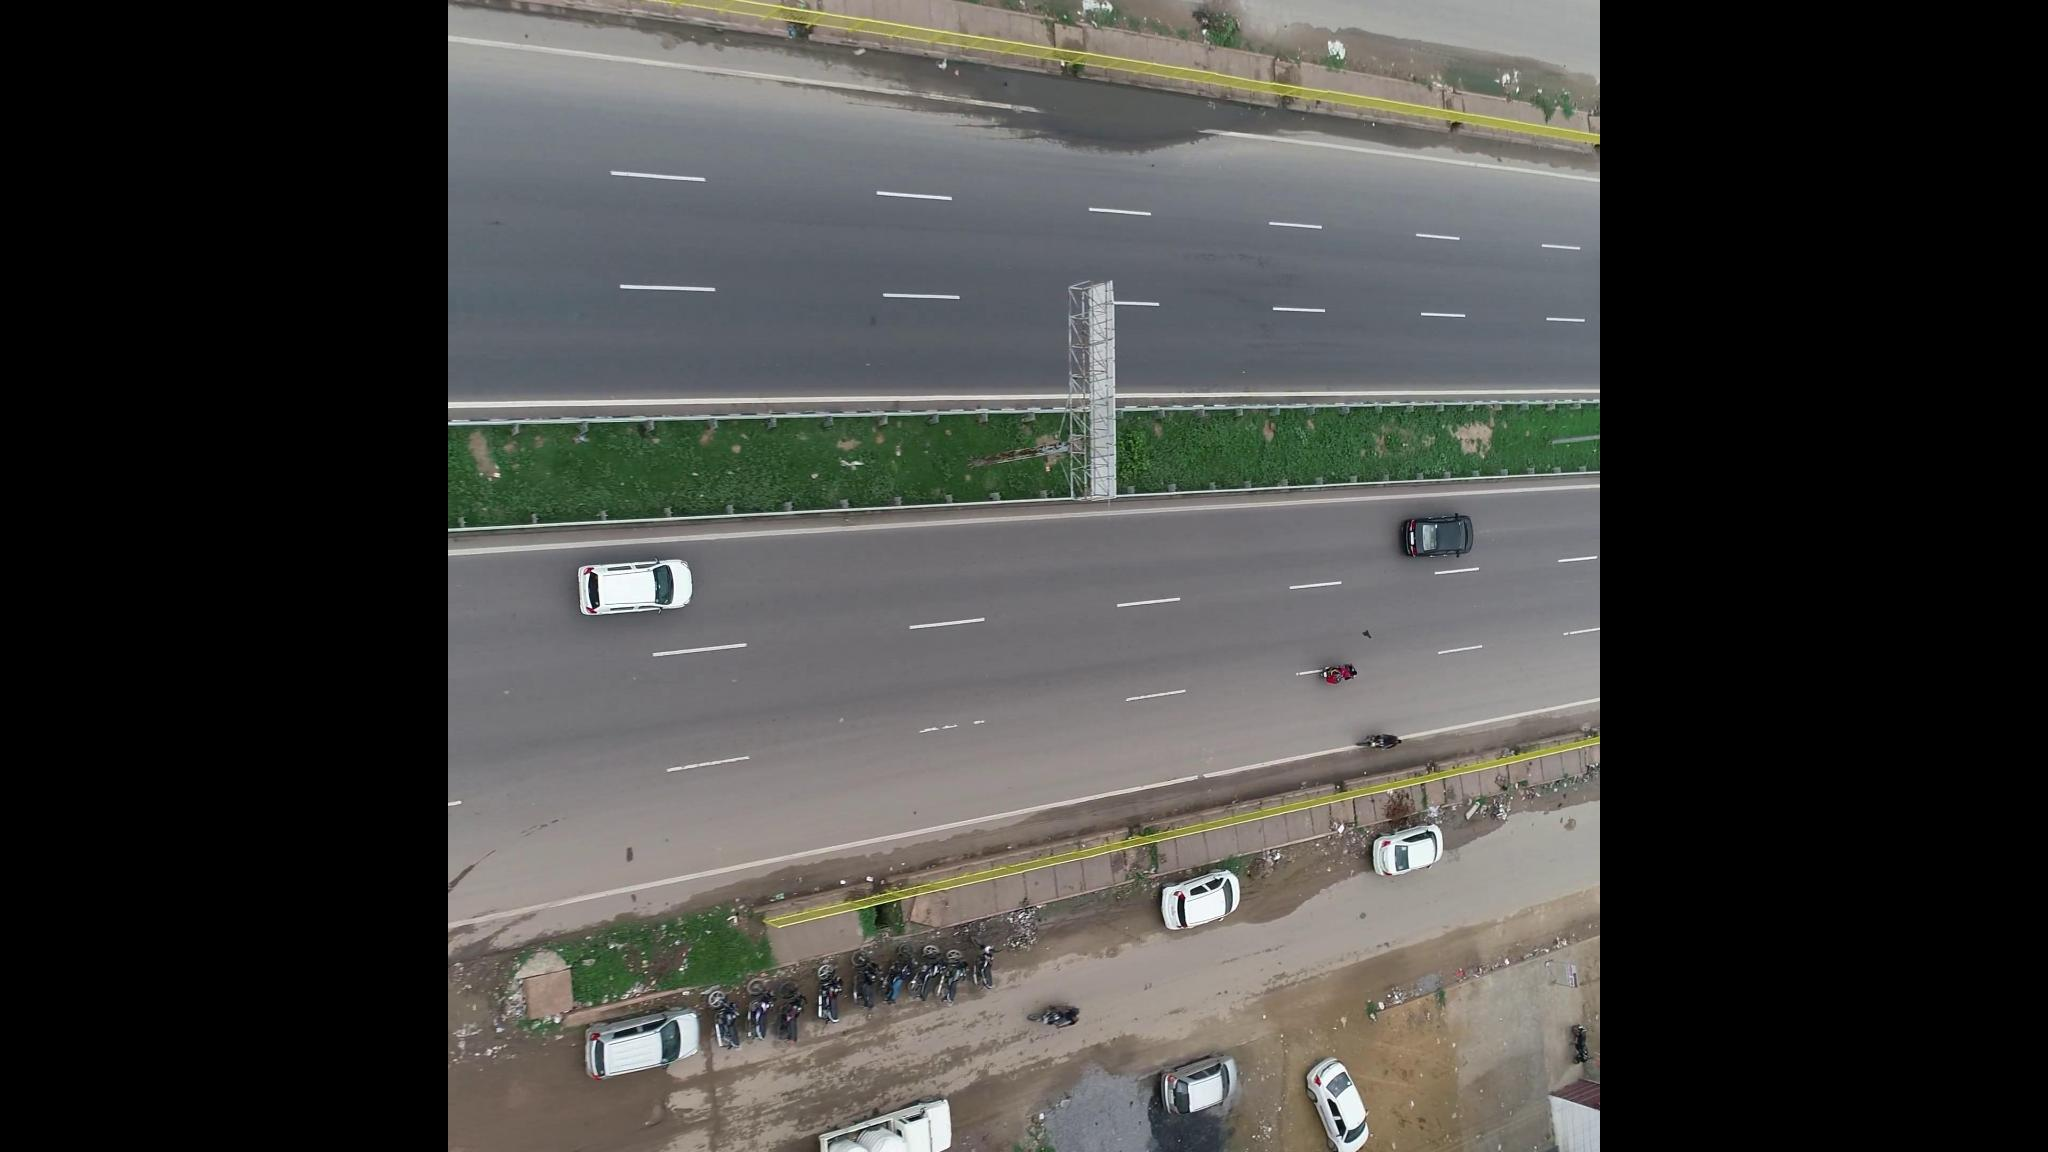Waterlogging: (987, 80, 1272, 169)
